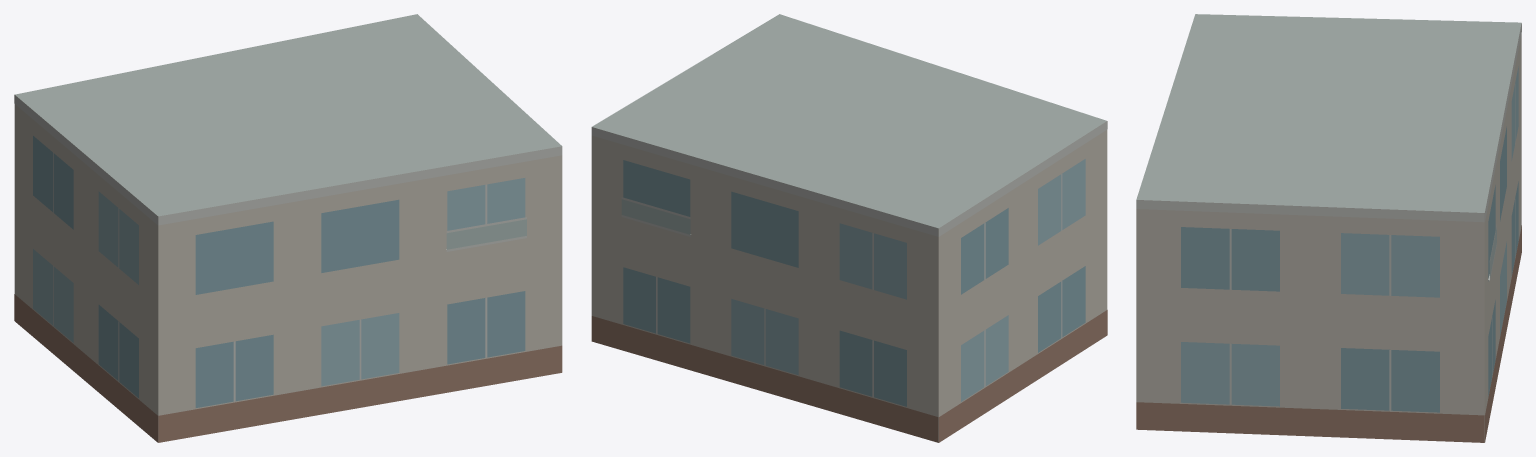
The model's file is survey-upis-32597297.glb.
3 views of the same model, side by side, from view 1: azimuth 30°, elevation 25°; view 2: azimuth 150°, elevation 25°; view 3: azimuth 270°, elevation 25° (orthographic). The views are drawn at different scales.
Visible parts, largest first — view 1: survey-upis-32597297.tmp; view 2: survey-upis-32597297.tmp; view 3: survey-upis-32597297.tmp.
Part boxes in pixels (x1,y1,x2,y2): survey-upis-32597297.tmp: (14,14,562,442); survey-upis-32597297.tmp: (591,14,1107,442); survey-upis-32597297.tmp: (1136,14,1521,442).
Bounding box in the file's own units: 11.34 × 6.1 × 9.28.
